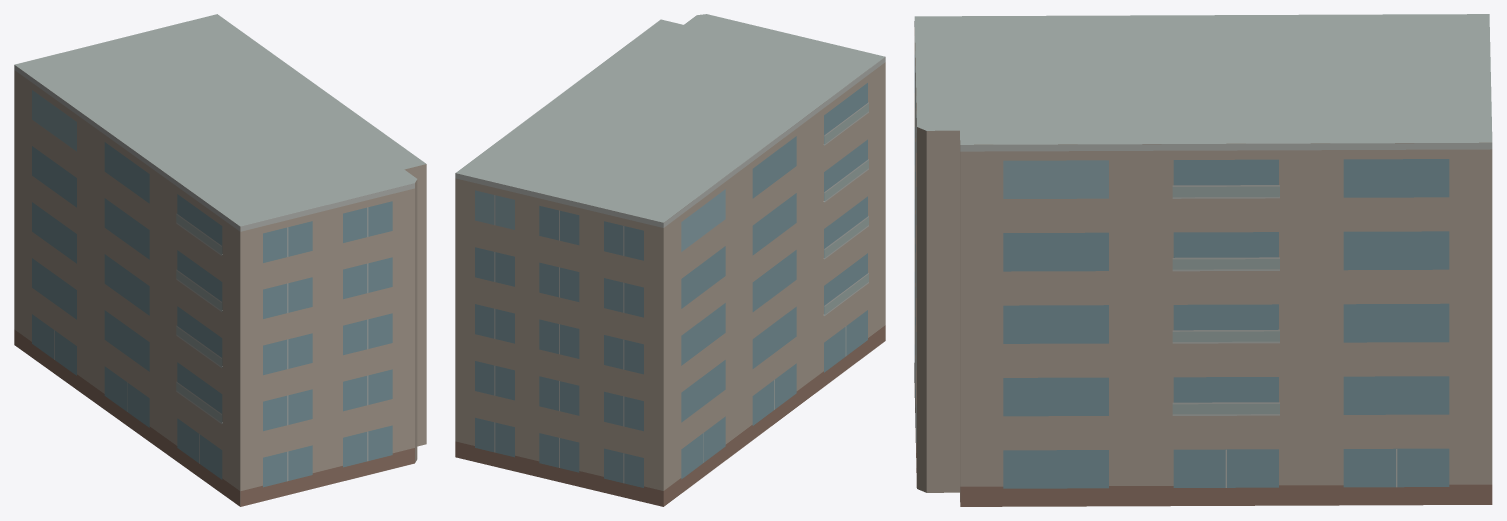
File: survey-upis-32992627.glb
The picture shows the model from 3 angles, left to right: view 1: azimuth 30°, elevation 25°; view 2: azimuth 150°, elevation 25°; view 3: azimuth 270°, elevation 25°; orthographic projection. The views are drawn at different scales.
Visible parts, largest first — view 1: survey-upis-32992627.tmp; view 2: survey-upis-32992627.tmp; view 3: survey-upis-32992627.tmp.
Part boxes in pixels (box(x1,y1,x2,y2)): survey-upis-32992627.tmp: box(14, 14, 426, 506); survey-upis-32992627.tmp: box(455, 14, 885, 506); survey-upis-32992627.tmp: box(914, 14, 1492, 506).
Bounding box in the file's own units: 10.16 × 13.1 × 18.96.
